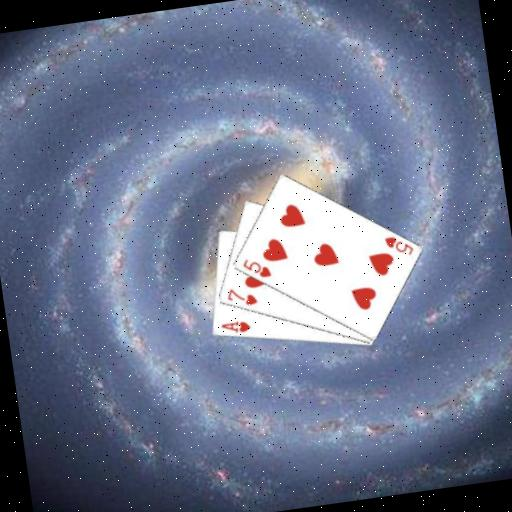5H: (238, 253, 273, 283), (381, 230, 416, 260)
7H: (223, 283, 260, 311)
AH: (217, 316, 252, 337)
